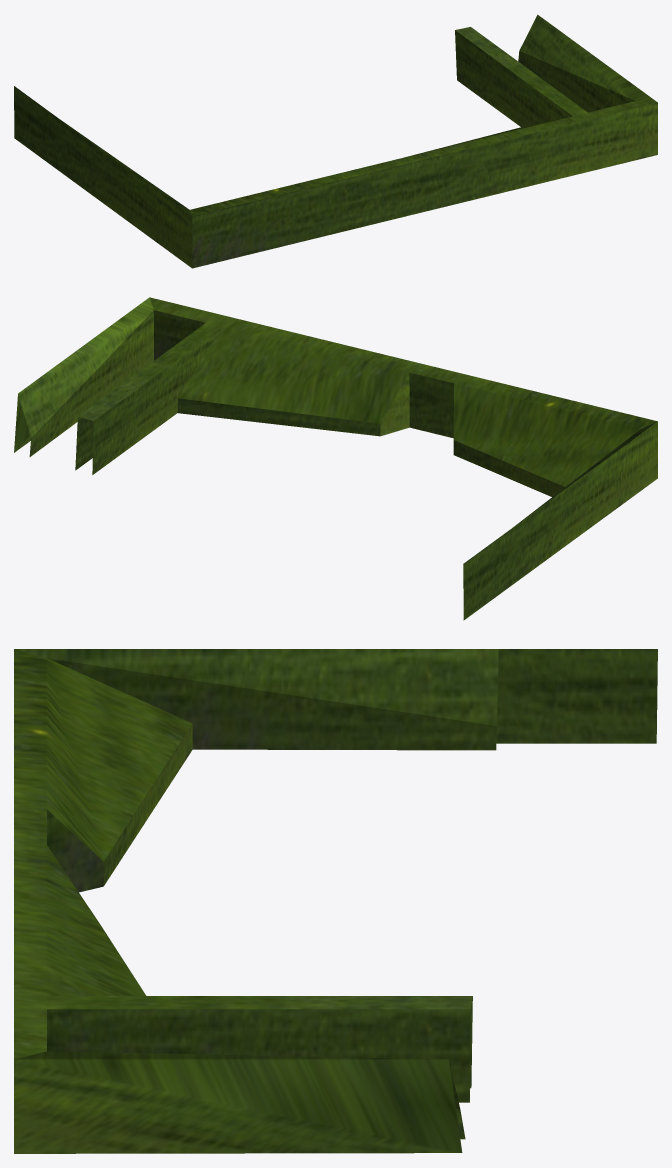
File: rand onderkant.FBX
The picture shows the model from 3 angles, top to bottom: view 1: azimuth 30°, elevation 25°; view 2: azimuth 150°, elevation 25°; view 3: azimuth 270°, elevation 25°; orthographic projection. The views are drawn at different scales.
Visible parts, largest first — view 1: rand001; view 2: rand001; view 3: rand001.
Part boxes in pixels (x1,y1,x2,y2): rand001: (14,14,657,268); rand001: (14,297,657,620); rand001: (14,649,657,1153).
Bounding box in the file's own units: 91.48 × 9.82 × 60.66.
